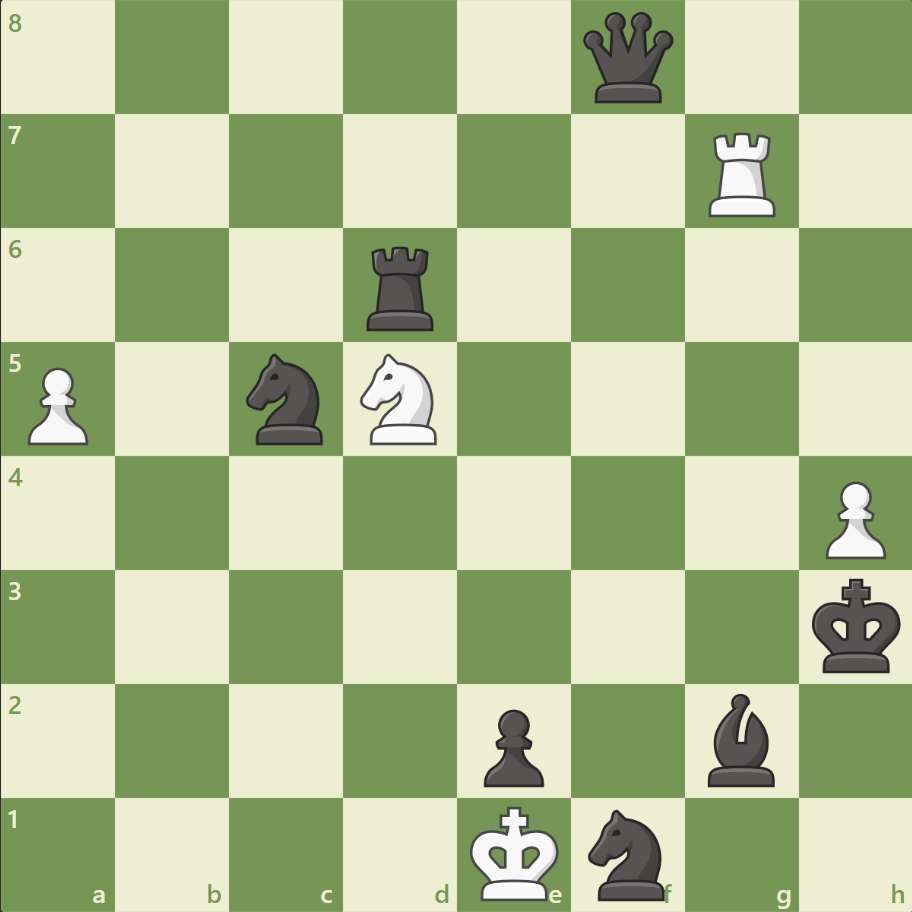K: (465, 798, 565, 906)
N: (351, 348, 449, 450)
P: (20, 359, 95, 450), (815, 473, 889, 564)
R: (700, 125, 783, 222)
b: (698, 687, 782, 790)
k: (806, 571, 906, 679)
n: (238, 348, 335, 450), (579, 802, 676, 904)
p: (474, 700, 549, 791)
q: (578, 9, 677, 108)
r: (360, 239, 442, 336)
